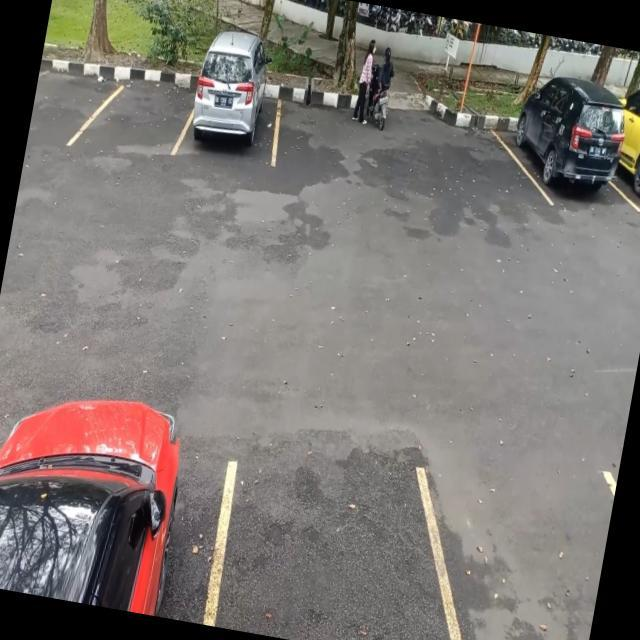empty: (198, 435, 458, 640), (424, 446, 617, 640), (78, 62, 193, 158)
occupied: (503, 89, 630, 214), (182, 51, 292, 165)
